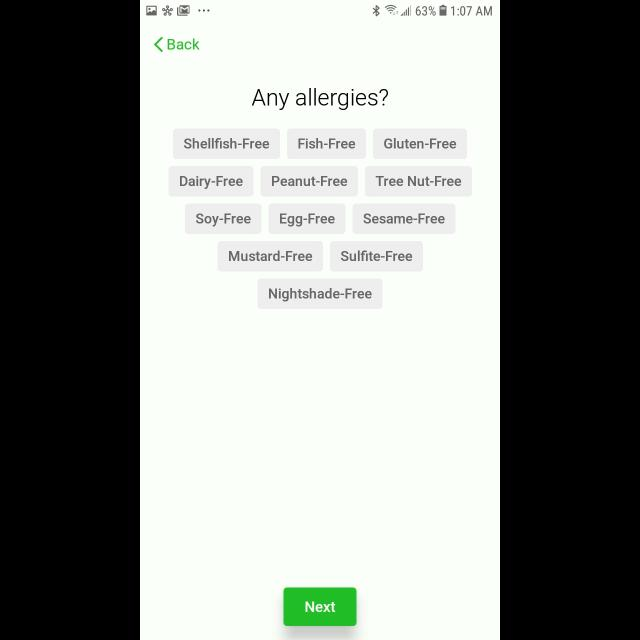icon: (154, 36, 164, 52)
text: (168, 38, 200, 50)
textbutton: (258, 278, 382, 310), (364, 166, 472, 198), (217, 240, 323, 272), (174, 128, 280, 160), (352, 203, 456, 234), (261, 166, 359, 198), (373, 128, 467, 160), (331, 240, 424, 272), (168, 166, 254, 198), (284, 588, 356, 626), (288, 128, 367, 160), (268, 203, 346, 234), (186, 203, 262, 234)
uppertaskbar: (140, 1, 500, 18)
